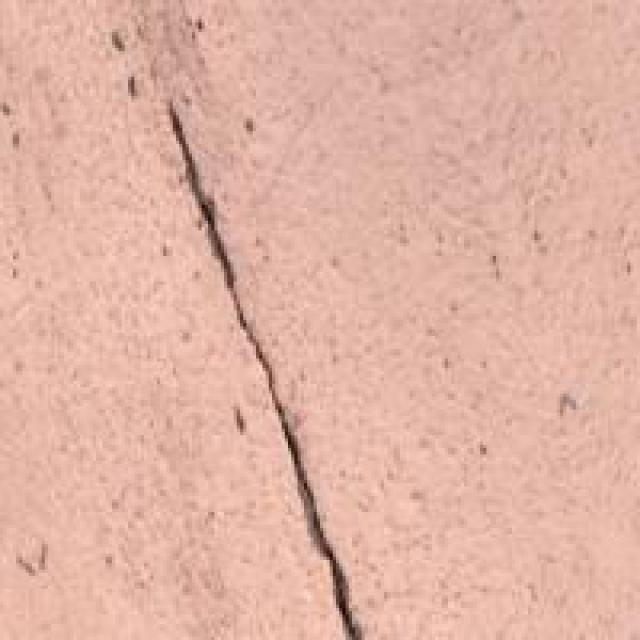crack: (128, 83, 416, 637)
